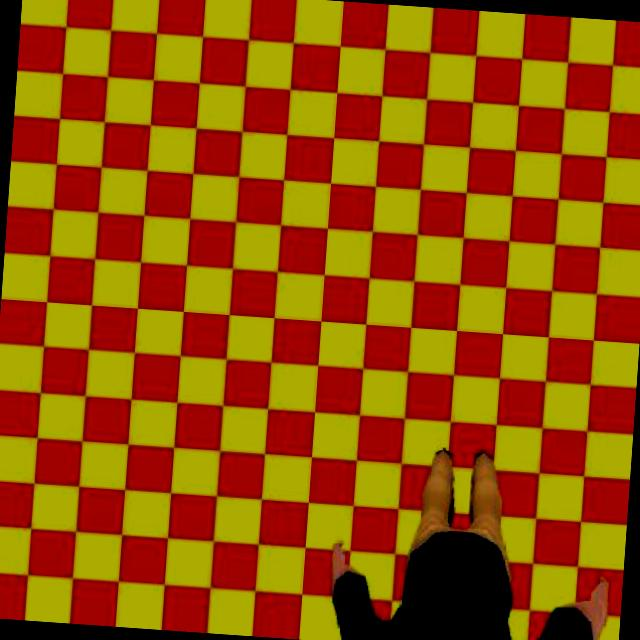Person: (316, 432, 622, 640)
